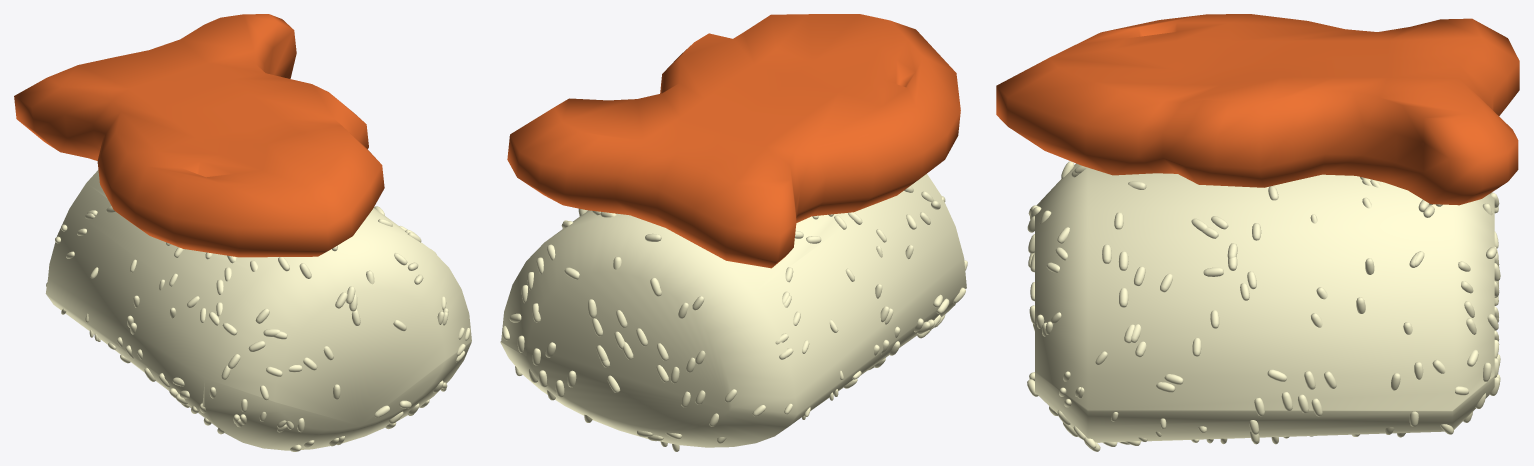
Rendered from sushi_joined.fbx.
3 renders of one model, left to right at view 1: azimuth 30°, elevation 25°; view 2: azimuth 150°, elevation 25°; view 3: azimuth 270°, elevation 25°, orthographic. The views are drawn at different scales.
Visible parts, largest first — view 1: SushiBase; view 2: SushiBase; view 3: SushiBase.
Boxes of the visible parts, x1,y1,x2,y2 form: SushiBase: (14, 14, 471, 451); SushiBase: (500, 14, 967, 451); SushiBase: (996, 14, 1519, 451).
Bounding box in the file's own units: 104 × 98.32 × 134.
